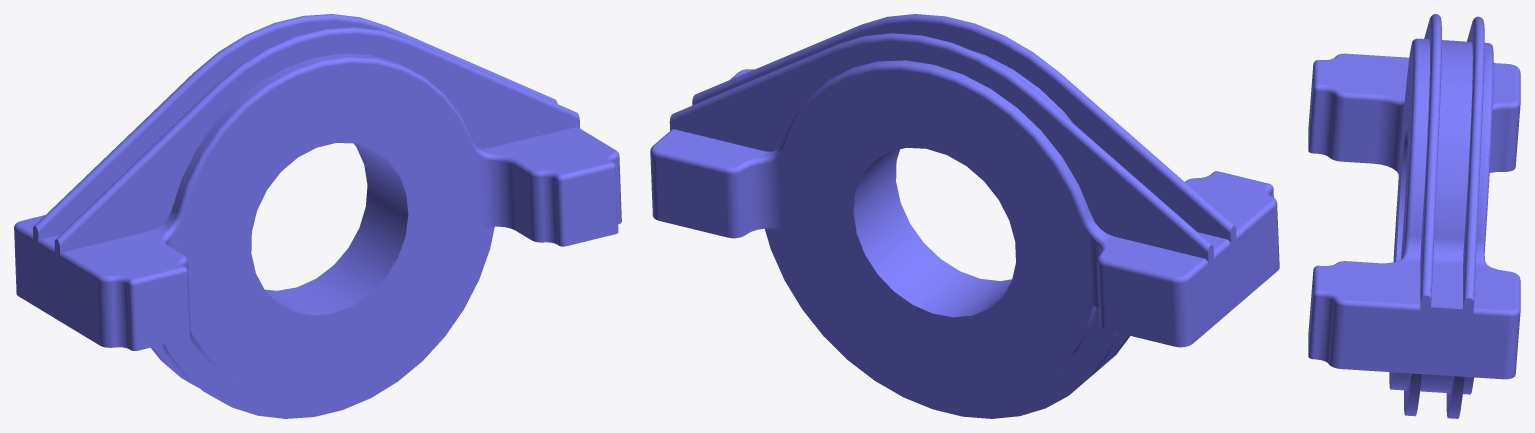
3 renders of one model, left to right at view 1: azimuth 30°, elevation 25°; view 2: azimuth 150°, elevation 25°; view 3: azimuth 270°, elevation 25°, orthographic. The views are drawn at different scales.
Parts seen in each view (by area): view 1: 0C6E641F3DC18749666DF3C59C03E7384C05AFCA|:|8DC2F8AB83AD_504f; view 2: 0C6E641F3DC18749666DF3C59C03E7384C05AFCA|:|8DC2F8AB83AD_504f; view 3: 0C6E641F3DC18749666DF3C59C03E7384C05AFCA|:|8DC2F8AB83AD_504f.
Part boxes in pixels (x1,y1,x2,y2): 0C6E641F3DC18749666DF3C59C03E7384C05AFCA|:|8DC2F8AB83AD_504f: (14,14,621,418); 0C6E641F3DC18749666DF3C59C03E7384C05AFCA|:|8DC2F8AB83AD_504f: (650,14,1279,418); 0C6E641F3DC18749666DF3C59C03E7384C05AFCA|:|8DC2F8AB83AD_504f: (1308,14,1520,418).
Size of the model in its own units: 235 by 160 by 84.22.
